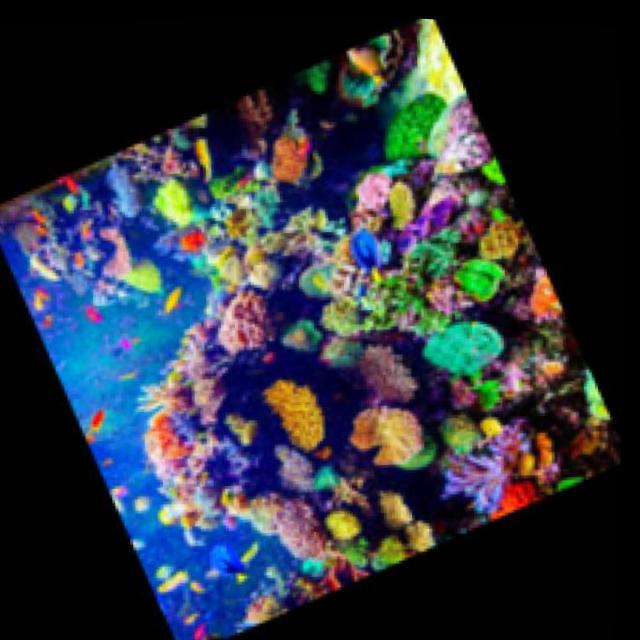Healthy Coral: (135, 276, 413, 582), (318, 83, 557, 408), (336, 369, 507, 490)
